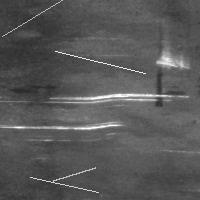scratches: (50, 46, 150, 78), (0, 0, 70, 41), (44, 90, 189, 106), (1, 117, 124, 135), (25, 172, 103, 197), (48, 163, 100, 186), (150, 48, 190, 71), (155, 25, 165, 110)
